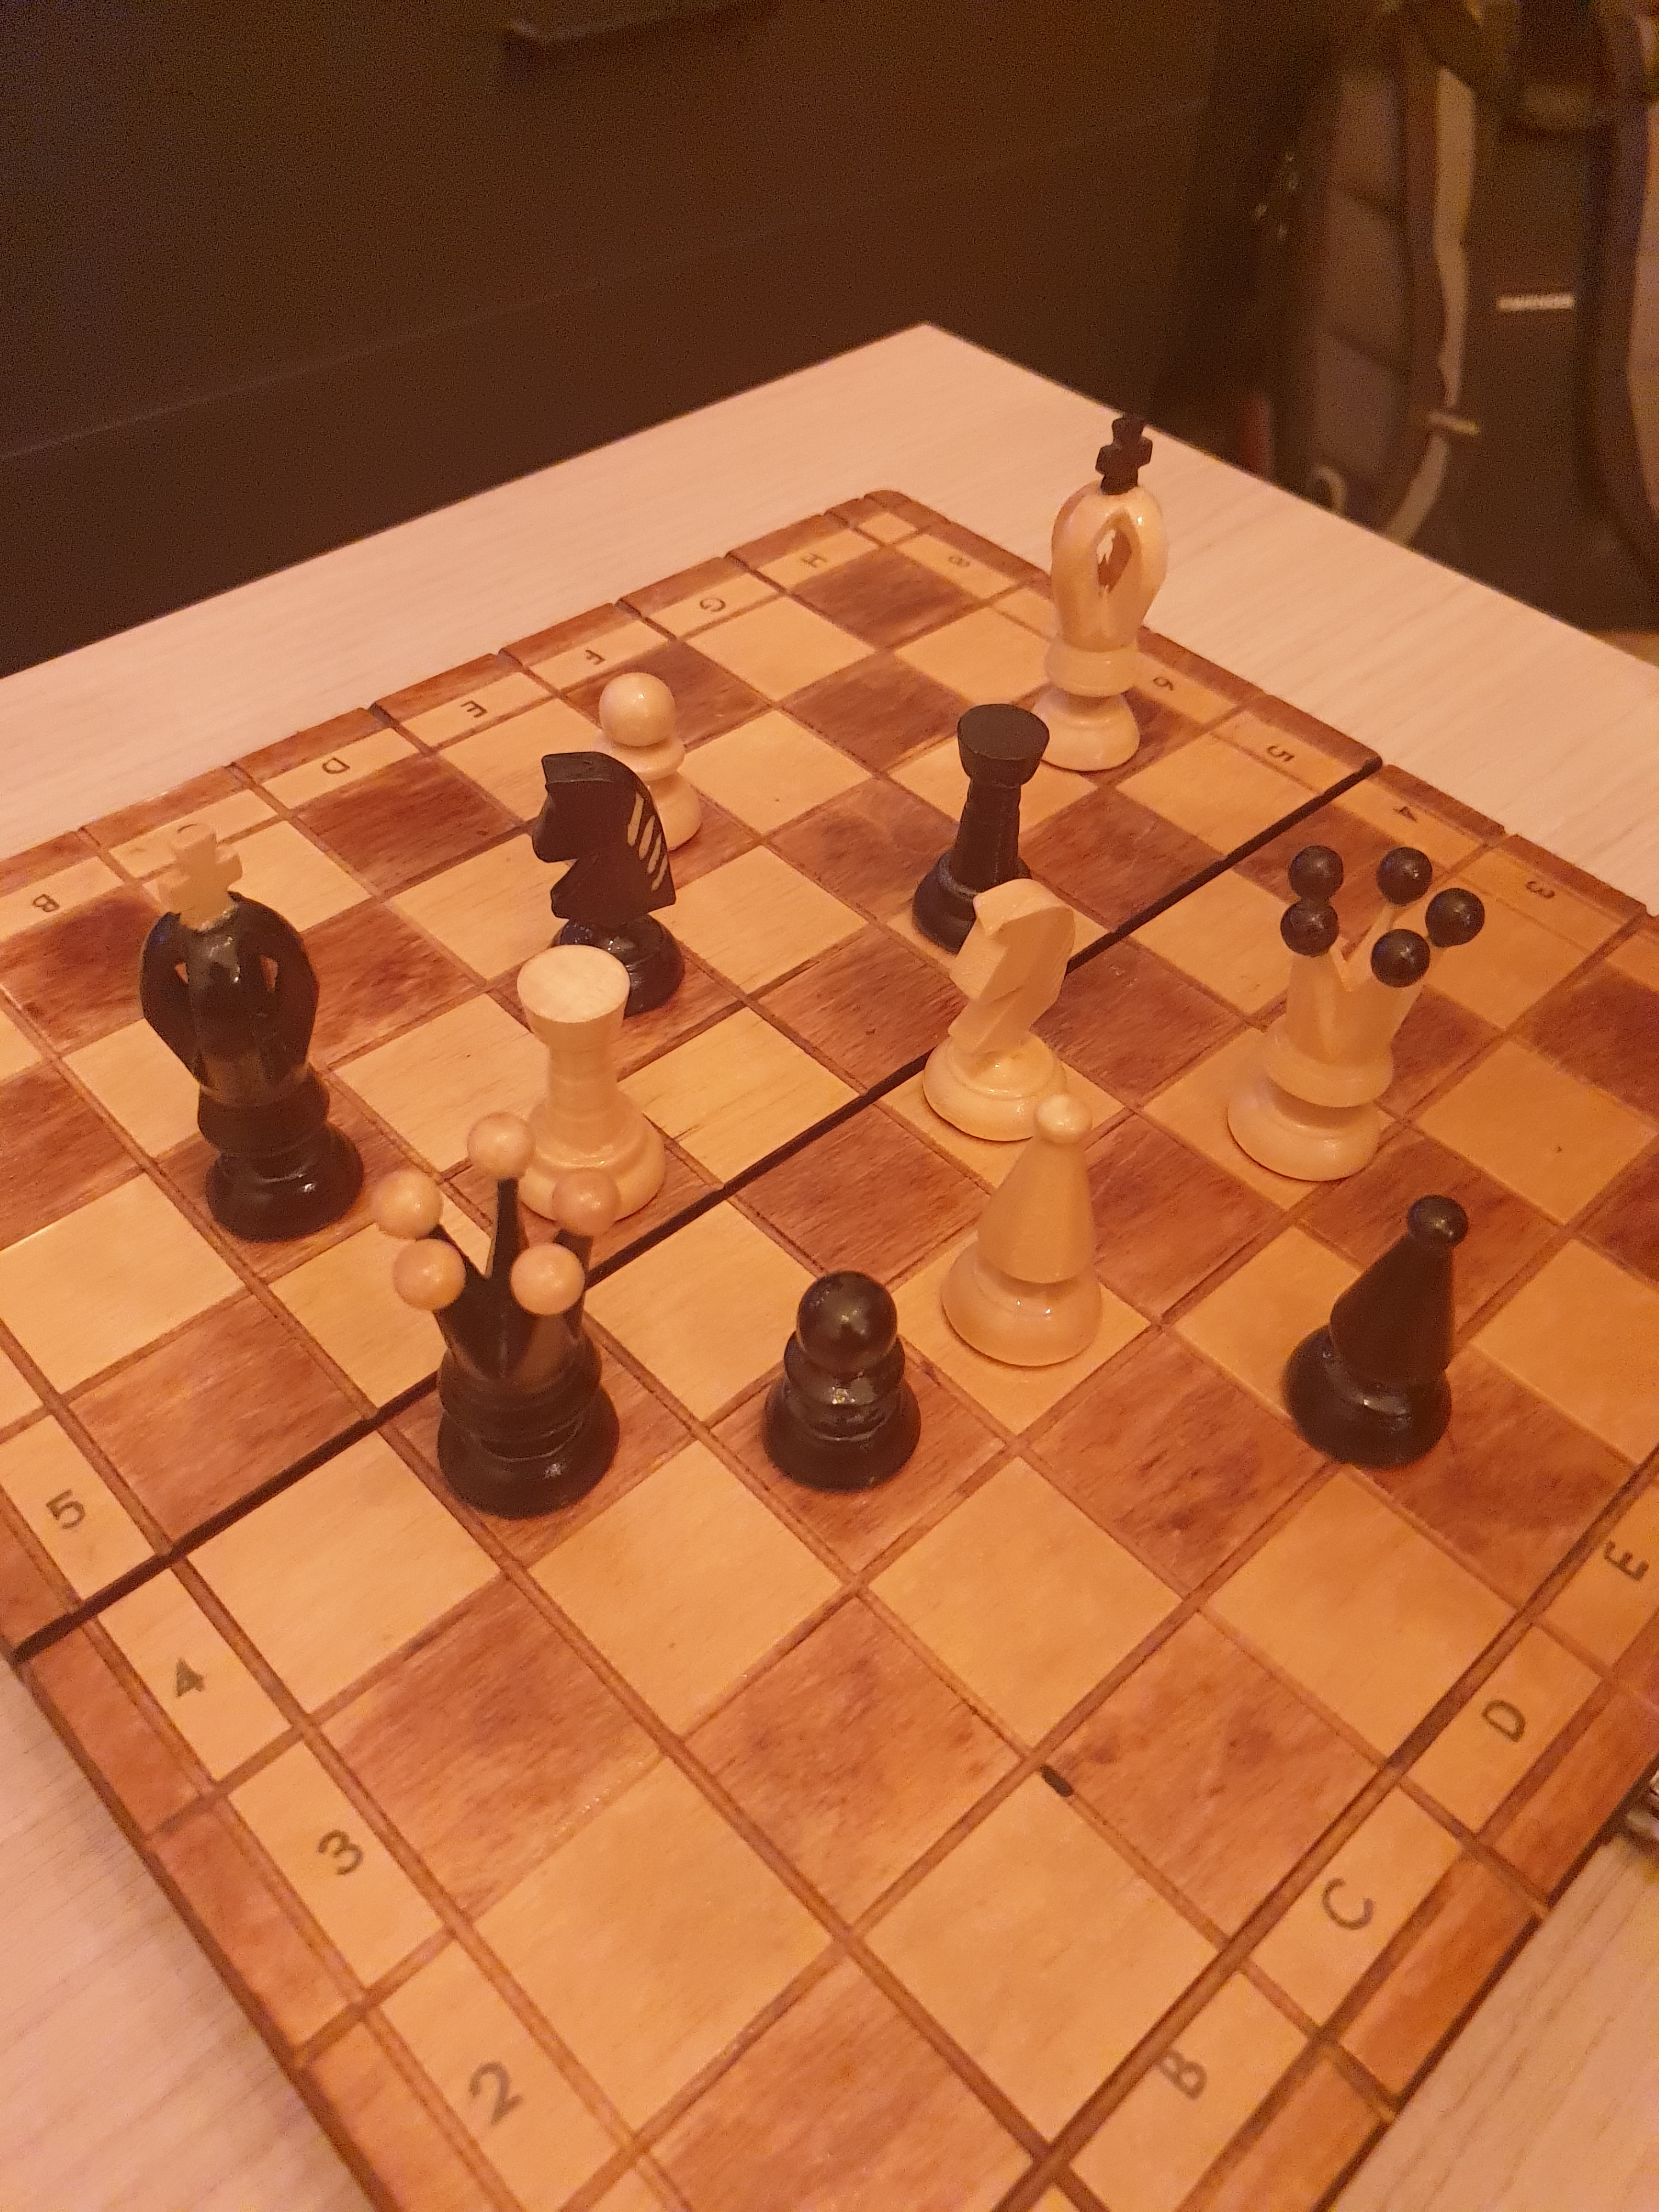bbishop: (1269, 1181, 1480, 1484)
bking: (129, 812, 385, 1252)
bknight: (516, 740, 699, 1031)
bpawn: (749, 1261, 934, 1507)
bqueen: (361, 1101, 640, 1534)
brook: (897, 683, 1065, 965)
wbishop: (929, 1087, 1121, 1385)
wking: (1000, 380, 1190, 803)
wknight: (911, 873, 1089, 1158)
wpawn: (573, 658, 711, 880)
wqueen: (1209, 822, 1492, 1209)
wrook: (497, 944, 681, 1249)
